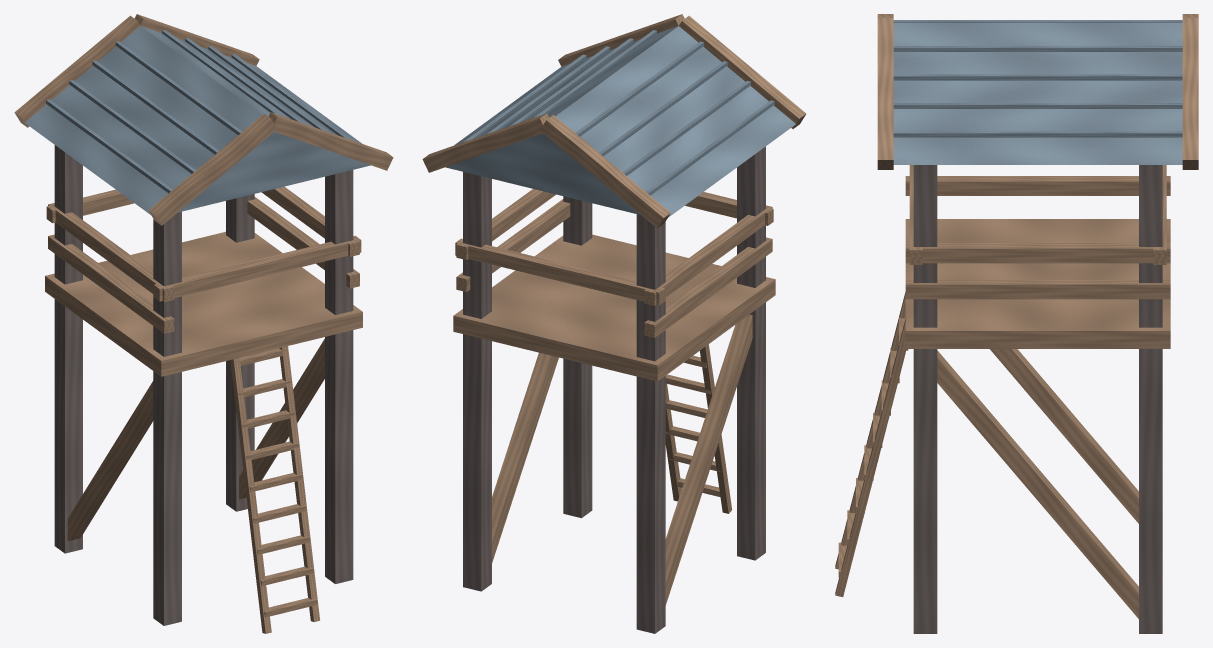
File: lantern-watch-open-timber-watchtower__76.glb
3 renders of one model, left to right at view 1: azimuth 30°, elevation 25°; view 2: azimuth 150°, elevation 25°; view 3: azimuth 270°, elevation 25°, orthographic. The views are drawn at different scales.
Parts seen in each view (by area): view 1: lantern-watch-watchtower; view 2: lantern-watch-watchtower; view 3: lantern-watch-watchtower.
Boxes of the visible parts, left/top/right/bottom form: lantern-watch-watchtower: left=14, top=14, right=393, bottom=633; lantern-watch-watchtower: left=422, top=14, right=806, bottom=633; lantern-watch-watchtower: left=835, top=14, right=1198, bottom=633.
Size of the model in its own units: 2.36 by 4.71 by 2.74.
Materials: 3 (3 with a texture image).
